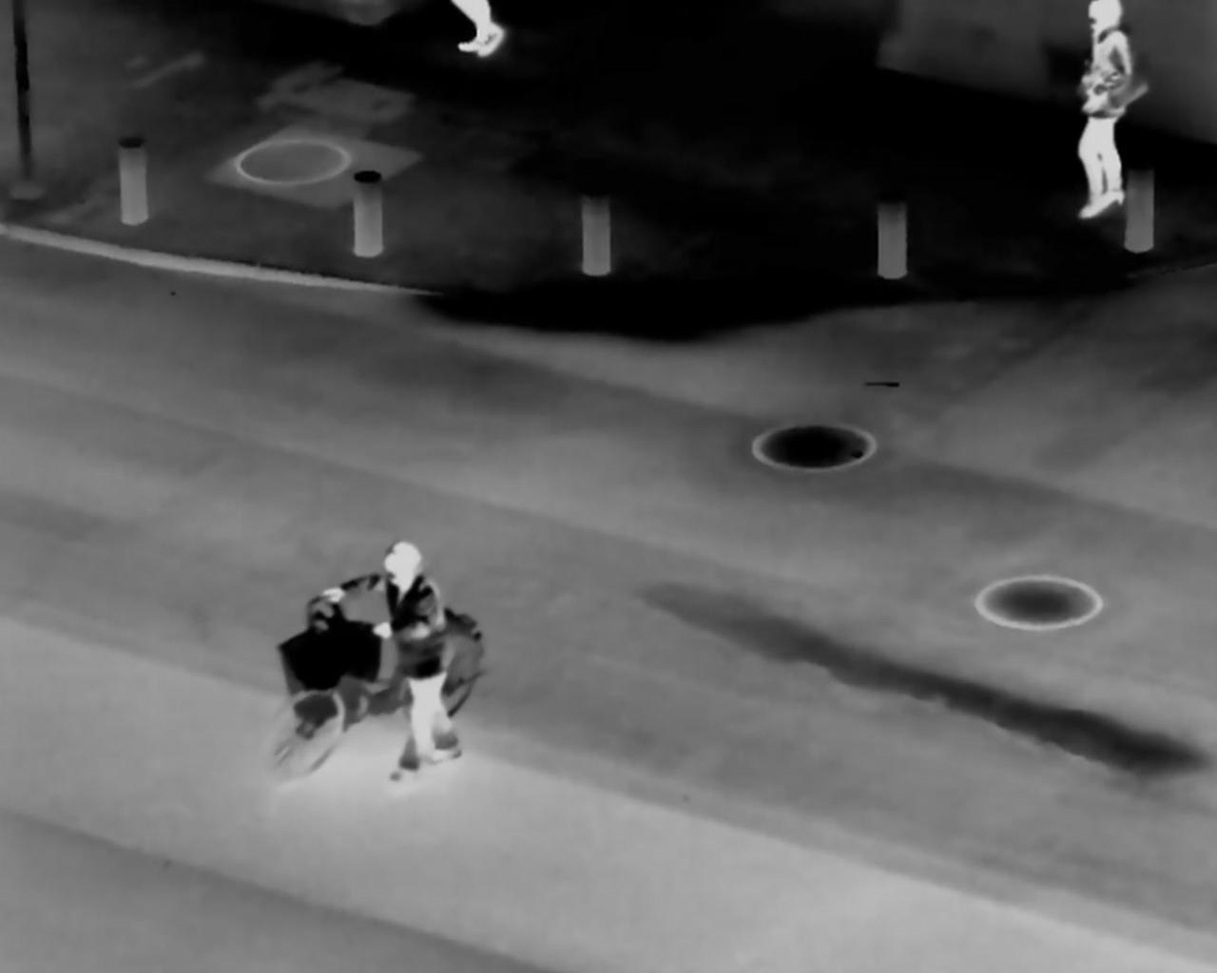person: (336, 541, 484, 791), (1076, 4, 1133, 223)
